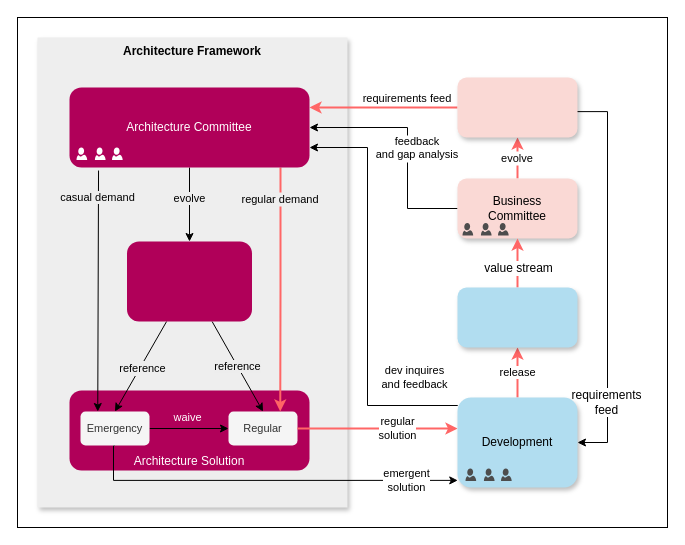
This 685x545 diagram has some shape labels left out. The centre of each missing label's shape, as x and y in pixels:
Architecture Mindset & Content: the point at 189,281
Business Requirements: the point at 518,108
IT Operation: the point at 518,318
